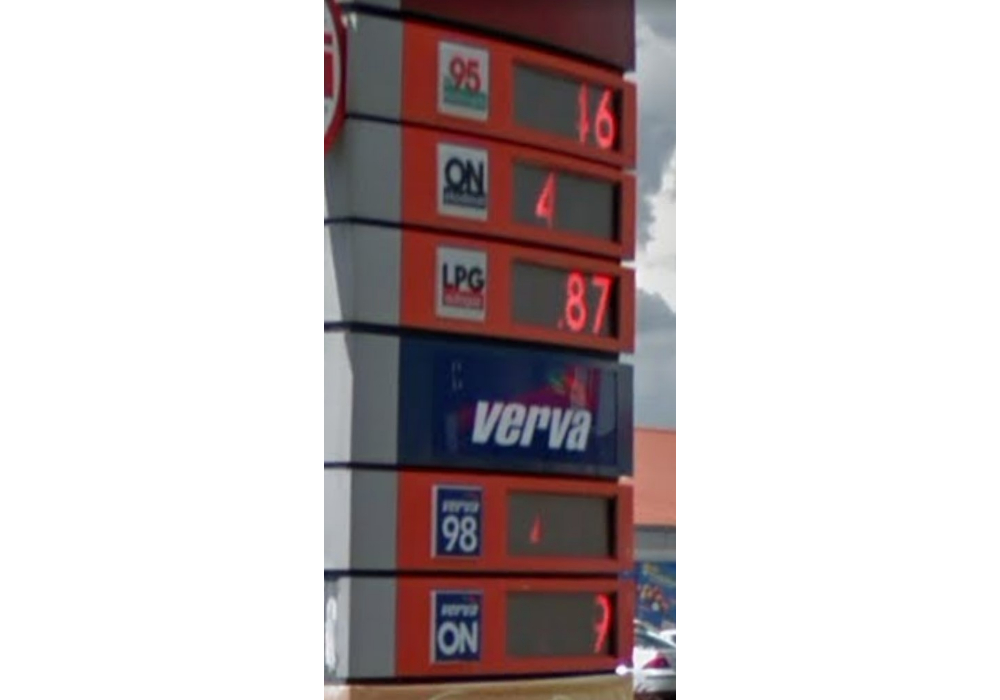LPG: (433, 245, 489, 326)
ON: (425, 586, 483, 665), (435, 140, 490, 222)
PB95: (433, 41, 491, 122)
PB98: (431, 483, 485, 560)
